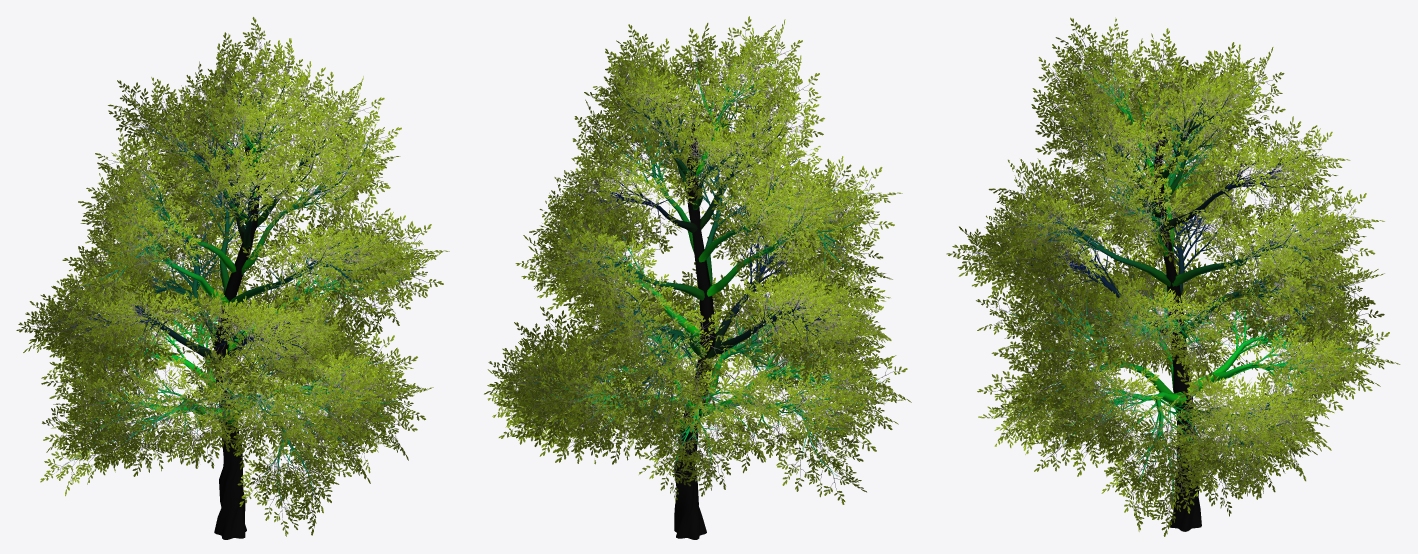
File: OakTree02.fbx
3 views of the same model, side by side, from view 1: azimuth 30°, elevation 25°; view 2: azimuth 150°, elevation 25°; view 3: azimuth 270°, elevation 25° (orthographic).
Parts seen in each view (by area): view 1: Tree_1, Tree_0; view 2: Tree_1, Tree_0; view 3: Tree_1, Tree_0.
Boxes of the visible parts, x1,y1,x2,y2 form: Tree_1: [16, 17, 449, 536]; Tree_0: [50, 61, 415, 539]; Tree_1: [484, 16, 911, 504]; Tree_0: [517, 56, 880, 539]; Tree_1: [946, 17, 1400, 536]; Tree_0: [977, 50, 1368, 531].
Bounding box in the file's own units: 122 × 146 × 123.
